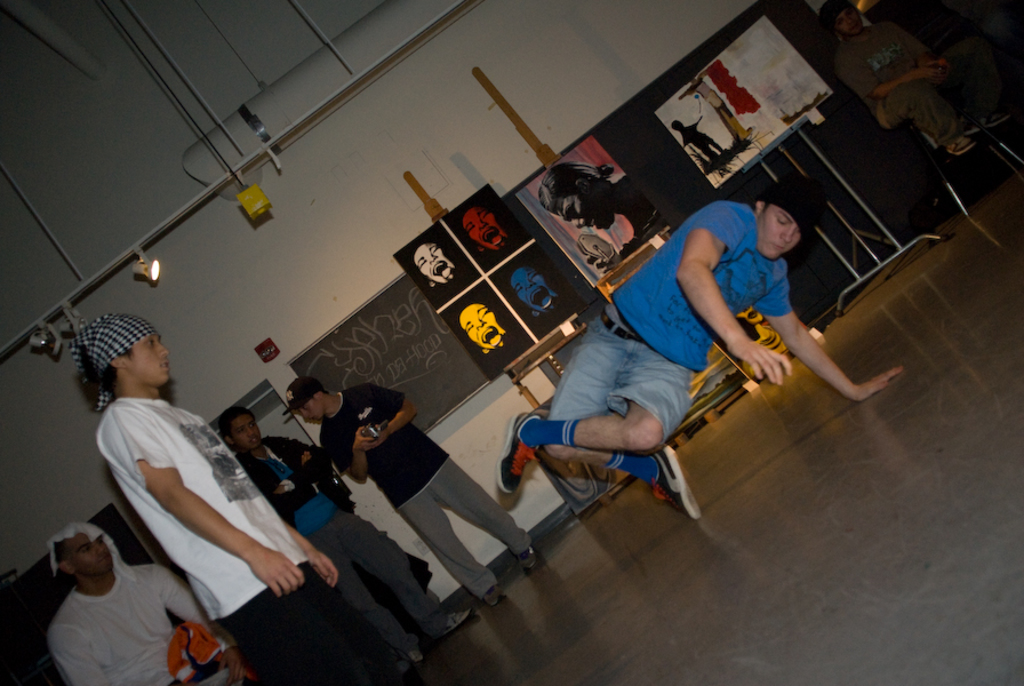Human_hand: (718, 330, 811, 394), (249, 544, 307, 601), (851, 366, 901, 404), (307, 550, 339, 592), (219, 645, 253, 684), (365, 429, 392, 452), (923, 59, 951, 78), (353, 423, 374, 447), (919, 67, 939, 82), (301, 453, 312, 468)
